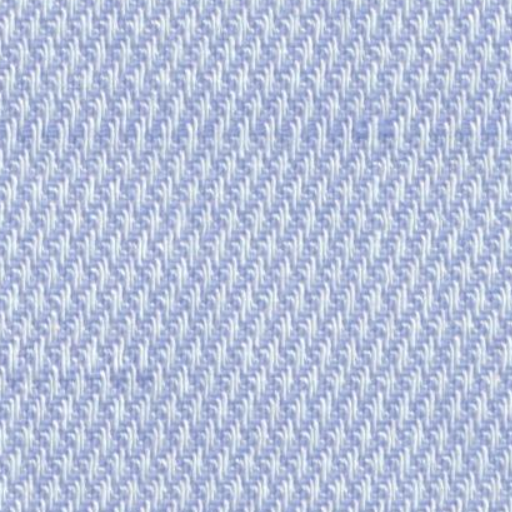TuoSha: (8, 94, 496, 182), (12, 354, 149, 402)
